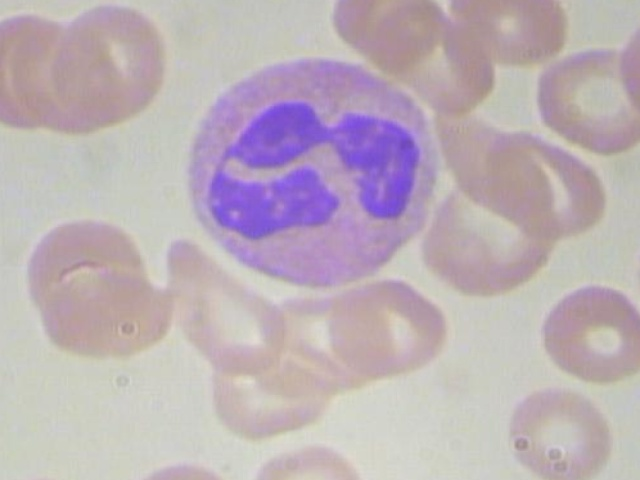RBC: (159, 236, 292, 377), (43, 0, 174, 130), (479, 122, 614, 243), (32, 254, 182, 361), (324, 266, 453, 383), (493, 376, 625, 480), (531, 43, 640, 160), (533, 277, 640, 391), (443, 0, 574, 70), (316, 0, 441, 58), (0, 377, 3, 480)
WBC: (173, 47, 450, 295)
